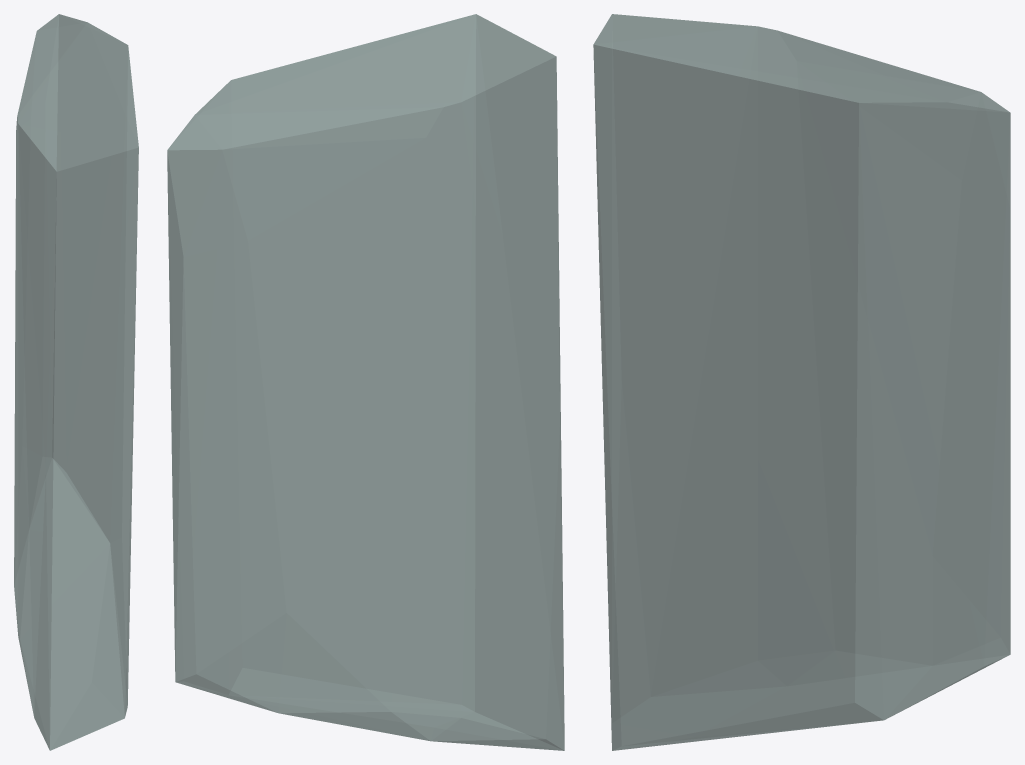
3 views of the same model, side by side, from view 1: azimuth 30°, elevation 25°; view 2: azimuth 150°, elevation 25°; view 3: azimuth 270°, elevation 25° (orthographic). The views are drawn at different scales.
Parts seen in each view (by area): view 1: Shape_IndexedFaceSet.010_Shape_IndexedFaceSet.18071; view 2: Shape_IndexedFaceSet.010_Shape_IndexedFaceSet.18071; view 3: Shape_IndexedFaceSet.010_Shape_IndexedFaceSet.18071.
Boxes of the visible parts, box(x1,y1,x2,y2) form: Shape_IndexedFaceSet.010_Shape_IndexedFaceSet.18071: box(14, 14, 138, 750); Shape_IndexedFaceSet.010_Shape_IndexedFaceSet.18071: box(167, 14, 564, 750); Shape_IndexedFaceSet.010_Shape_IndexedFaceSet.18071: box(593, 14, 1010, 750).
Bounding box in the file's own units: 0.0773 × 0.244 × 0.1267.
